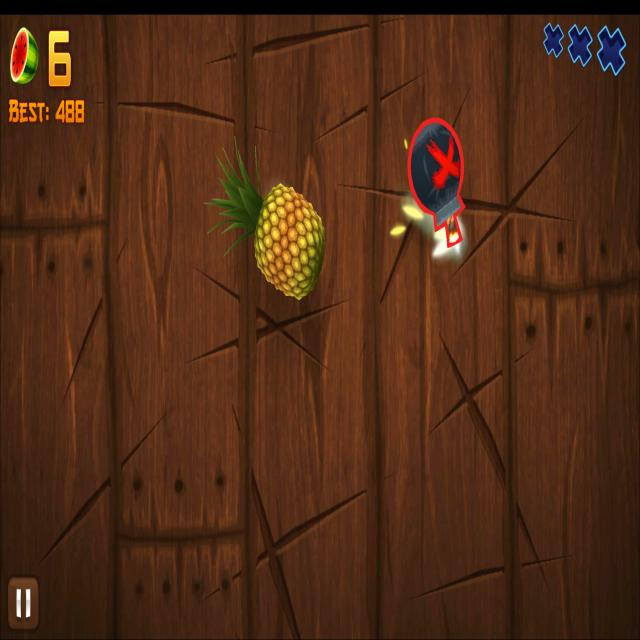bomb: (406, 115, 466, 251)
fruit: (254, 184, 326, 300)
